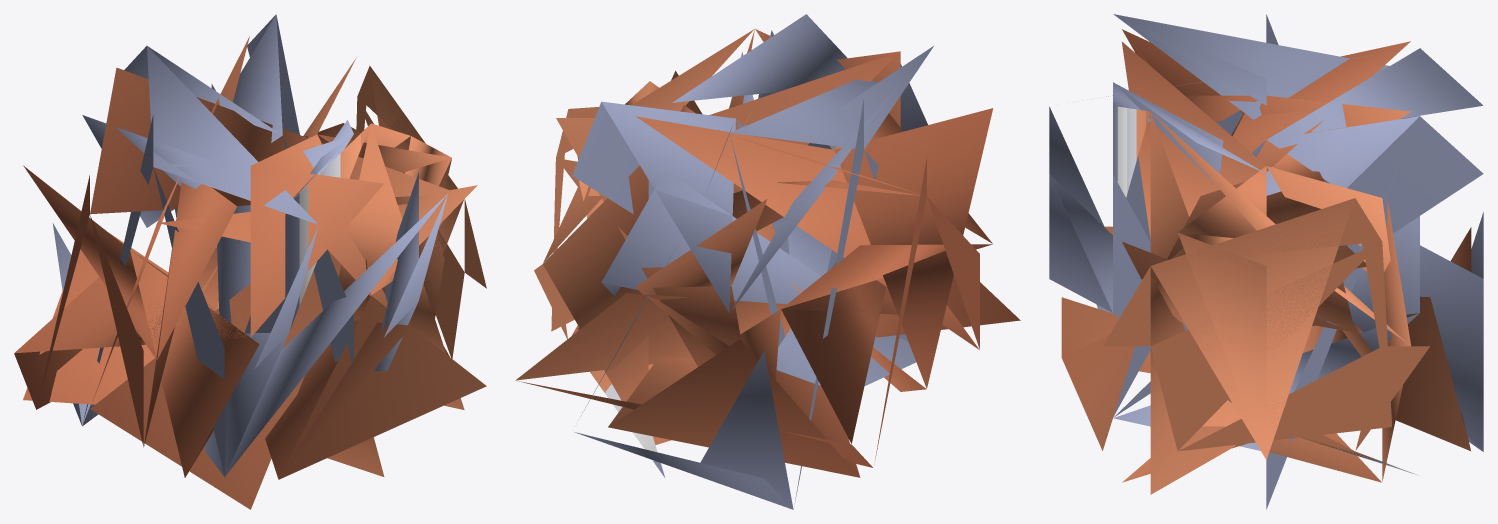
Rendered from k_pirate_barrel.glb.
3 views of the same model, side by side, from view 1: azimuth 30°, elevation 25°; view 2: azimuth 150°, elevation 25°; view 3: azimuth 270°, elevation 25° (orthographic). The views are drawn at different scales.
Parts seen in each view (by area): view 1: barrel; view 2: barrel; view 3: barrel.
Boxes of the visible parts, x1=… form: barrel: x1=14, y1=14, x2=486, y2=509; barrel: x1=515, y1=14, x2=1020, y2=509; barrel: x1=1049, y1=14, x2=1483, y2=509.
Bounding box in the file's own units: 1.23 × 1.34 × 1.34.
Materials: 1 (1 with a texture image).
